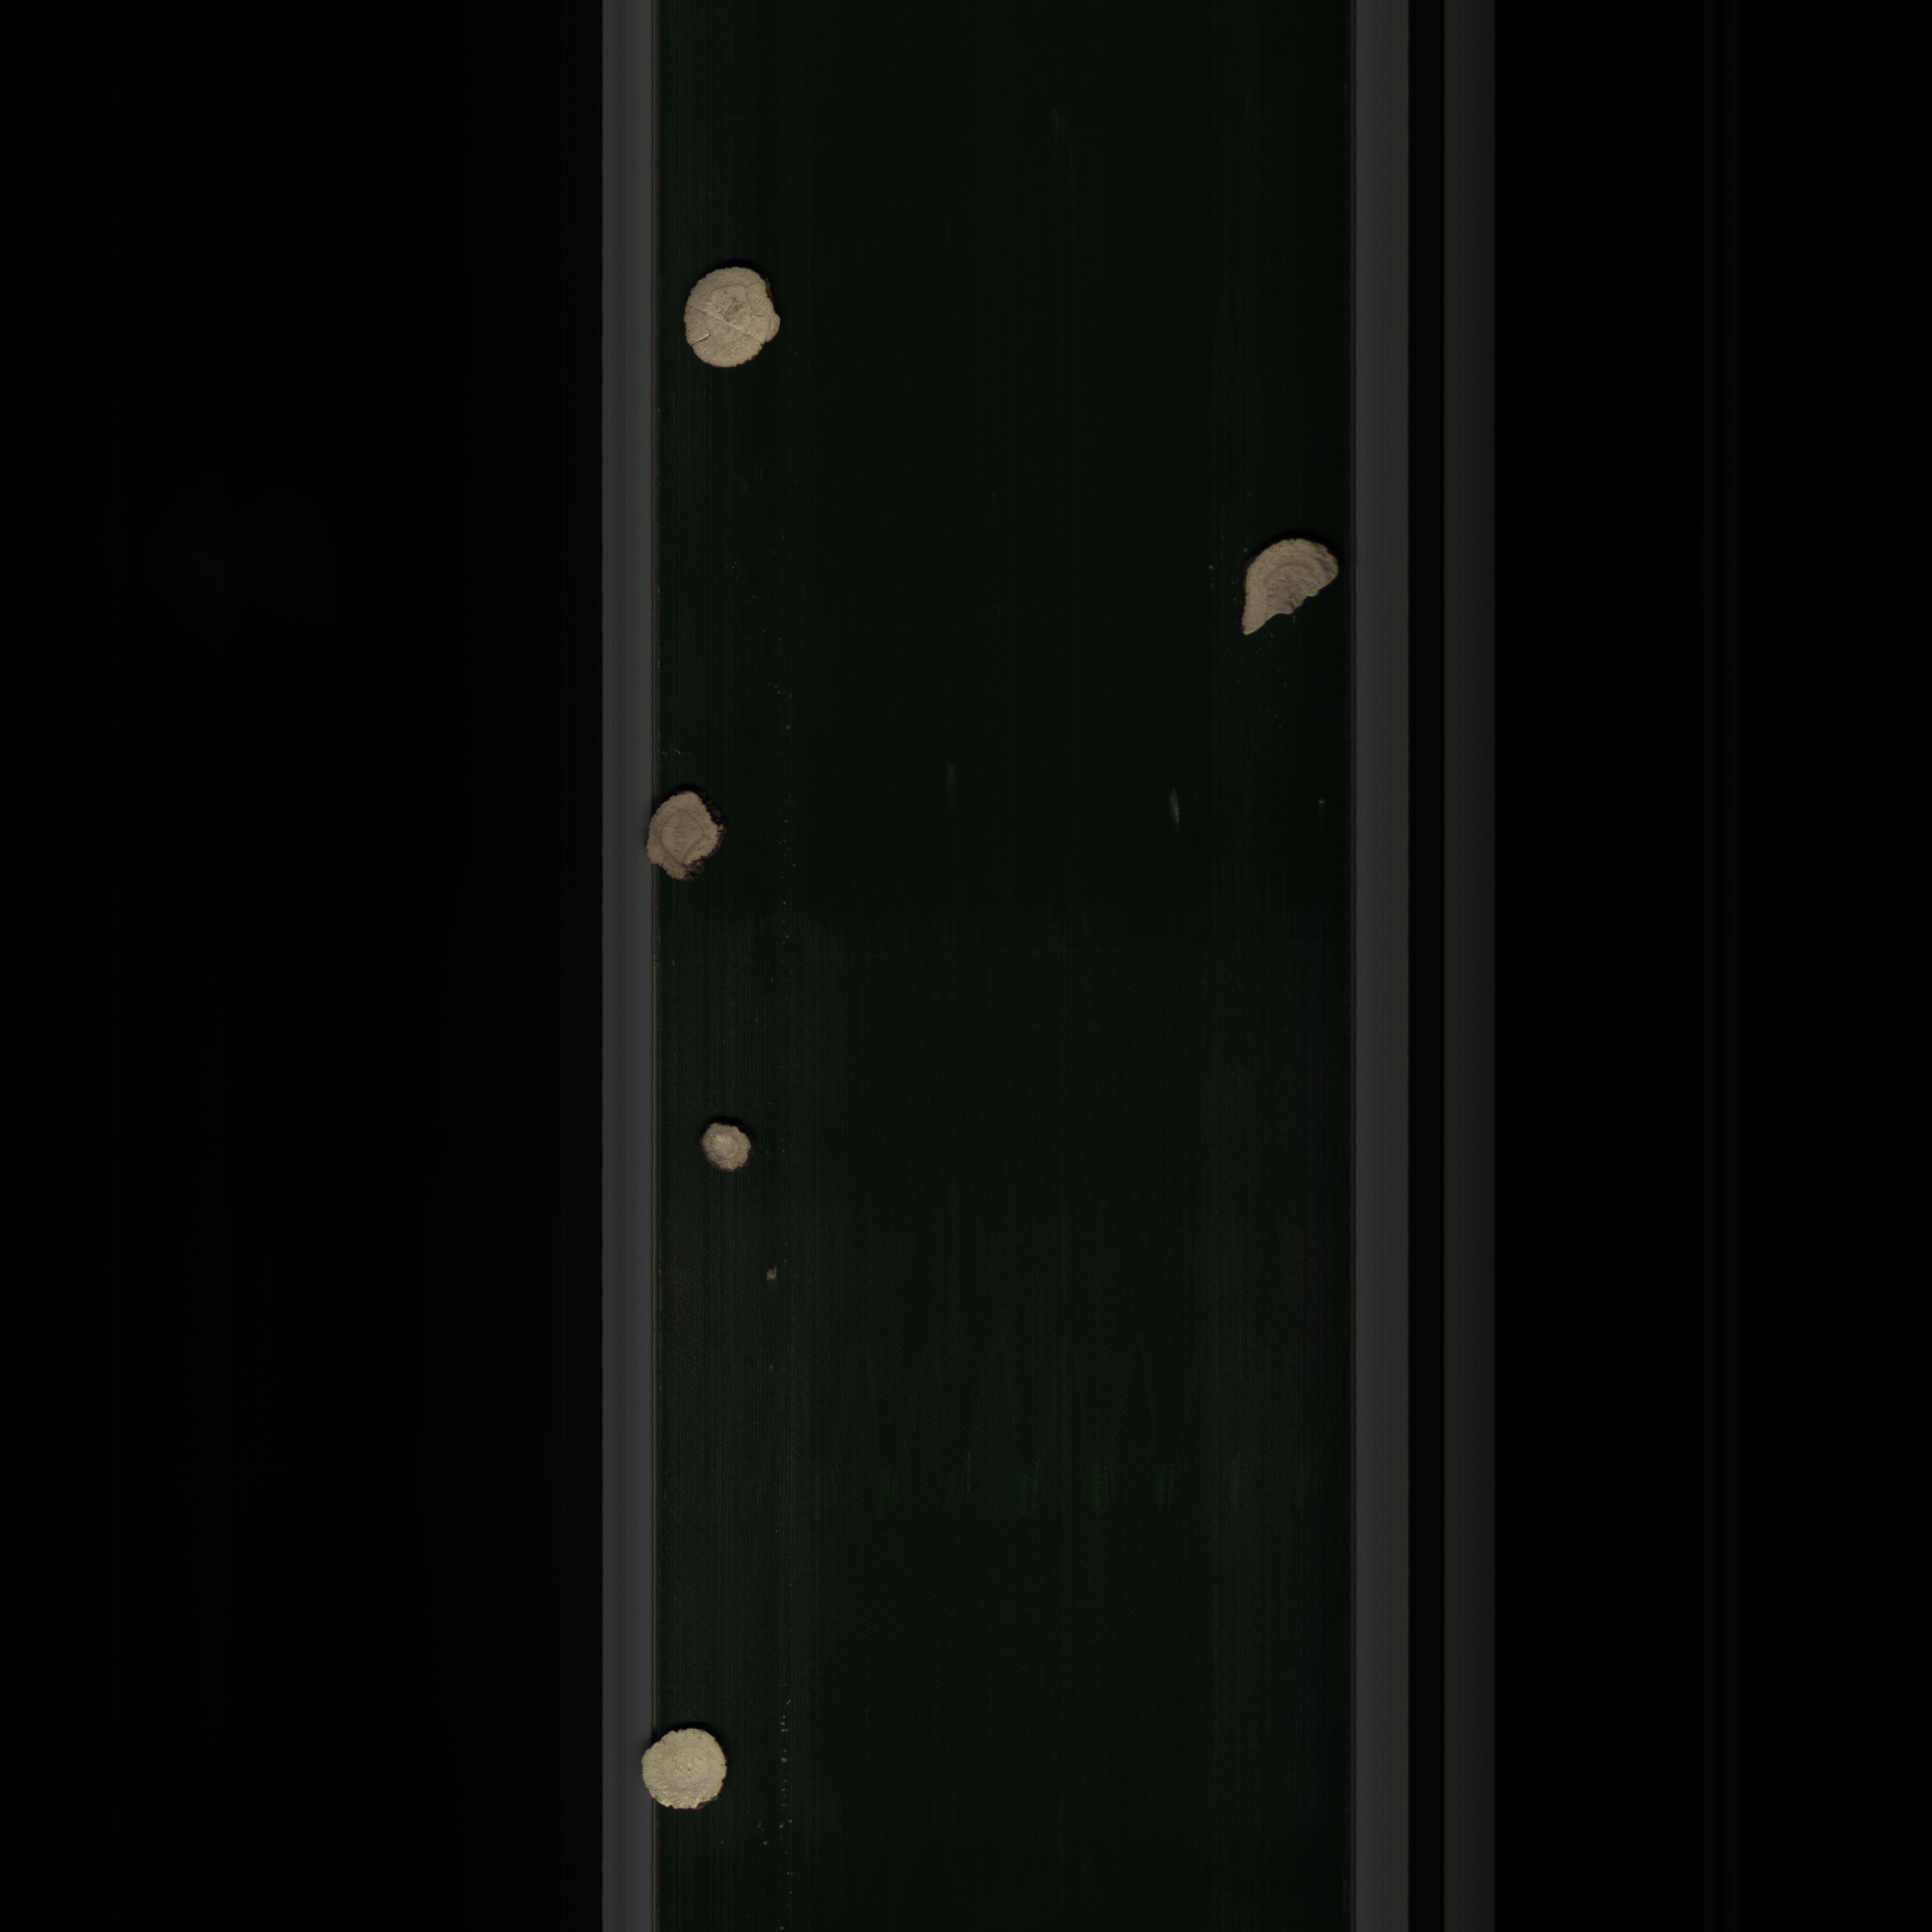debris: (1219, 534, 1348, 644)
moldy: (640, 782, 740, 886)
